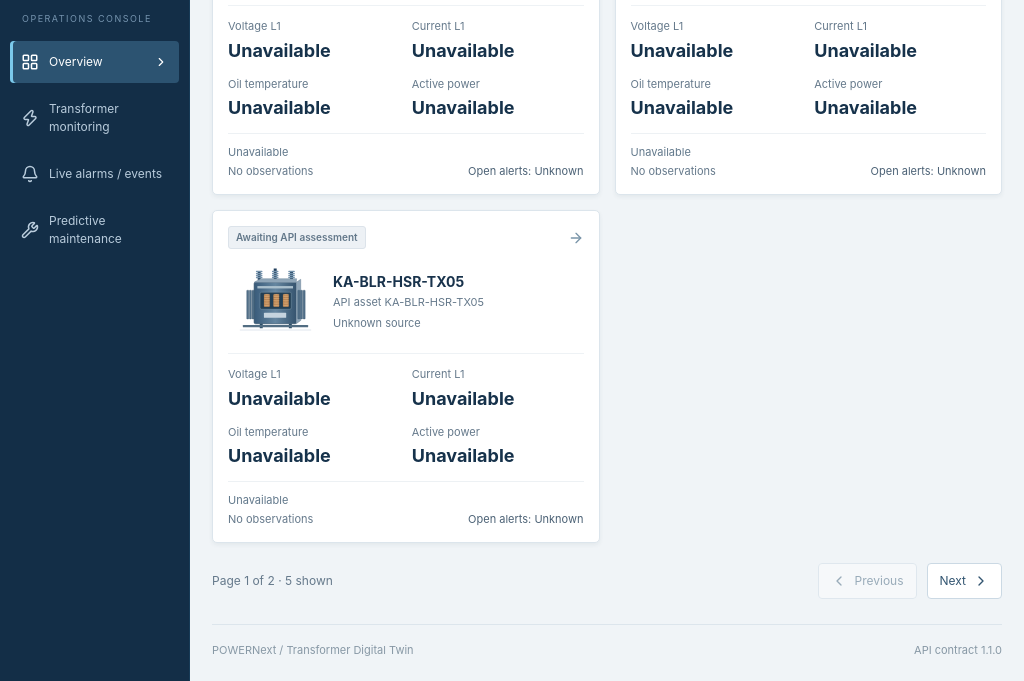
clamps the page after a registry refresh reduces the available inventory
(page scrolled)
Click the button "Next" at (964, 581), box [926,563,1002,599]
(page scrolled)
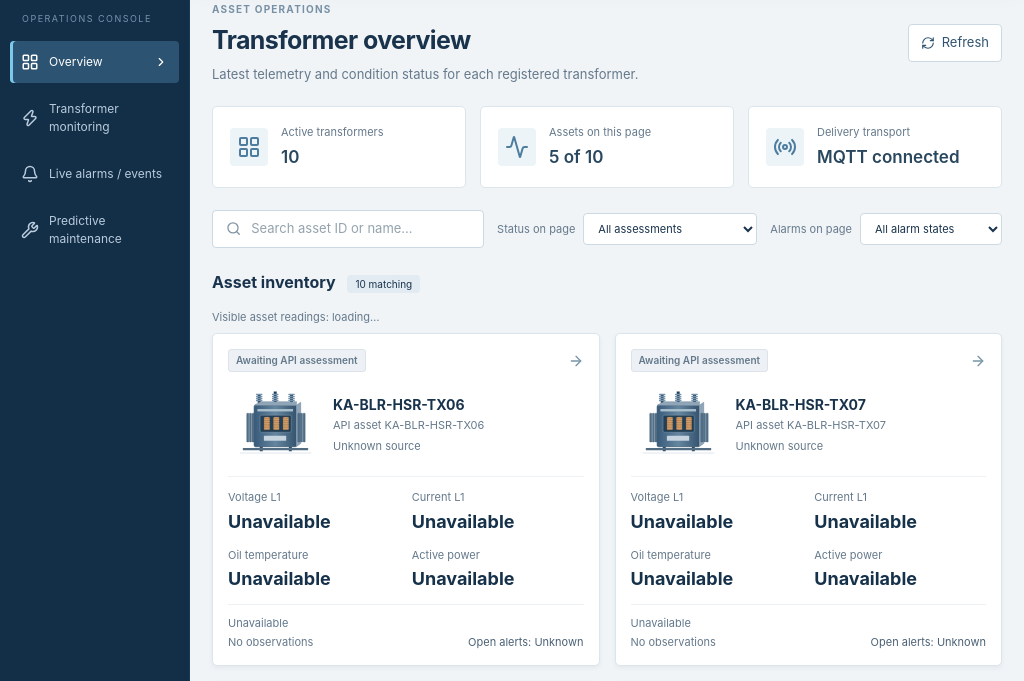
Click the button "Refresh" at (955, 43), box [908,24,1002,62]
(page scrolled)
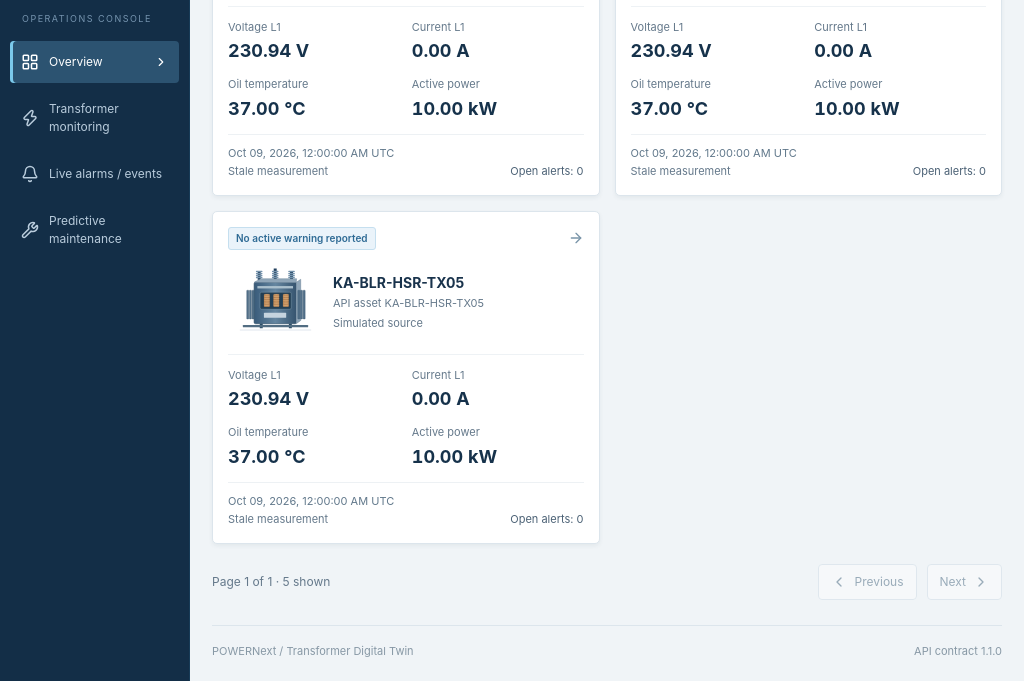
Check: the button "Next" is disabled, box [926,564,1002,600]
Check: the text "Page 1 of 1 · 5 shown" is shown, box [212,572,330,590]
